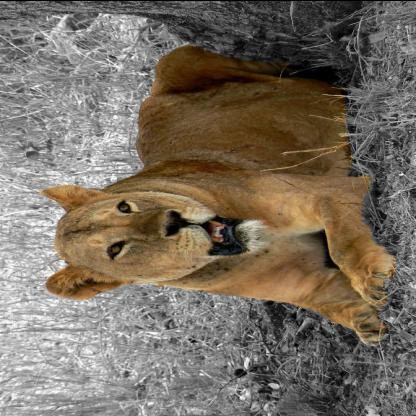lion: (39, 178, 277, 306)
